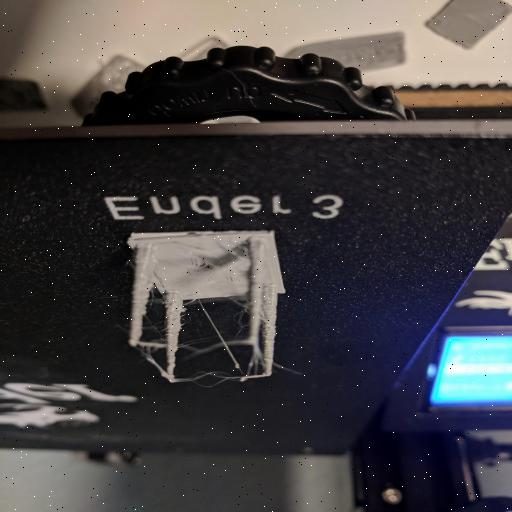stringing: (117, 272, 275, 376)
